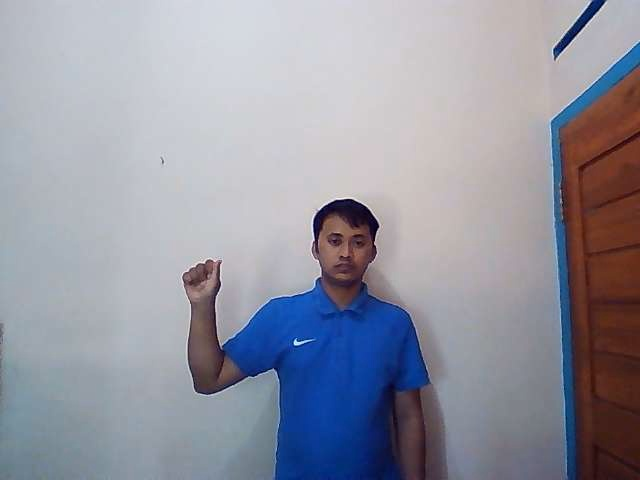A: (180, 258, 222, 300)
